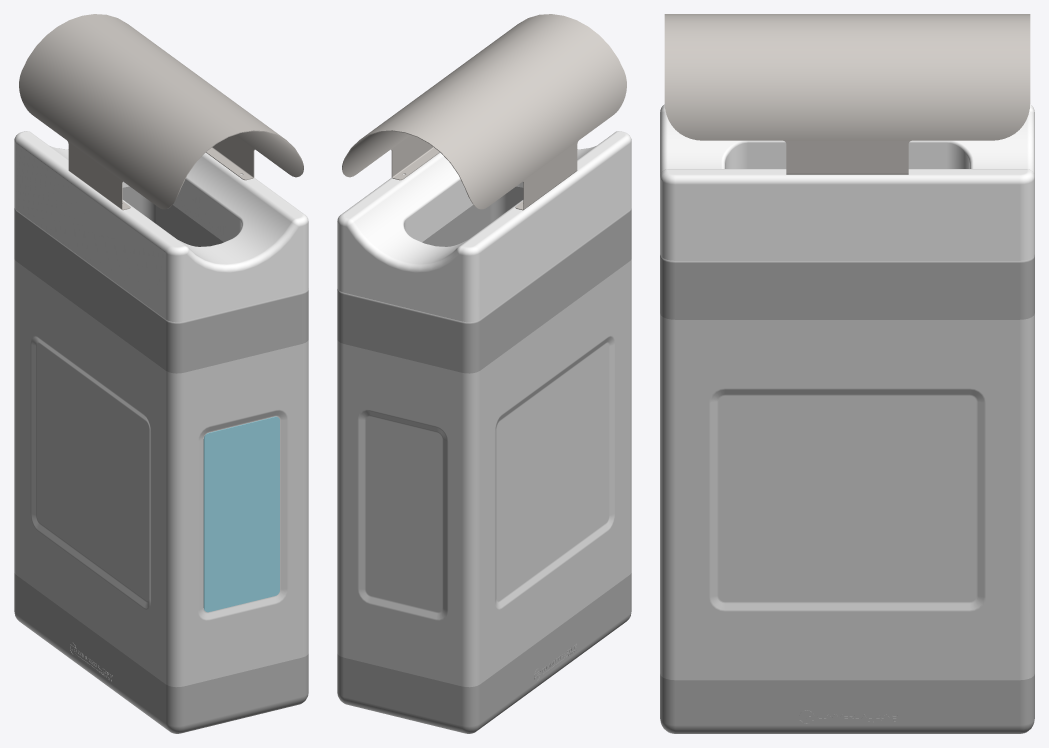
Rendered from 30gal.glb.
The picture shows the model from 3 angles, left to right: view 1: azimuth 30°, elevation 25°; view 2: azimuth 150°, elevation 25°; view 3: azimuth 270°, elevation 25°; orthographic projection. The views are drawn at different scales.
Visible parts, largest first — view 1: Base, Canopy, Lid, Panel; view 2: Base, Canopy, Lid; view 3: Base, Canopy, Lid.
Boxes of the visible parts, box(x1,y1,x2,y2) form: Base: box(14, 186, 308, 733); Canopy: box(19, 14, 303, 210); Lid: box(14, 131, 308, 322); Panel: box(203, 416, 279, 612); Base: box(337, 186, 631, 733); Canopy: box(342, 14, 626, 210); Lid: box(337, 131, 631, 322); Base: box(660, 255, 1034, 733); Canopy: box(664, 14, 1030, 174); Lid: box(660, 104, 1034, 260).
Bounding box in the file's own units: 0.3122 × 1.24 × 0.6223.
